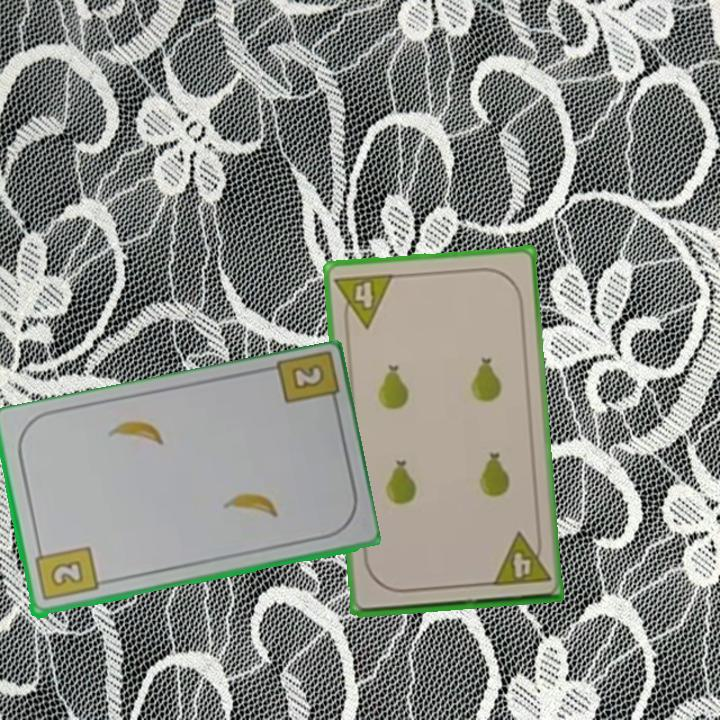2b: (31, 543, 100, 604), (287, 361, 327, 393)
4p: (331, 269, 397, 332), (488, 528, 553, 589)
